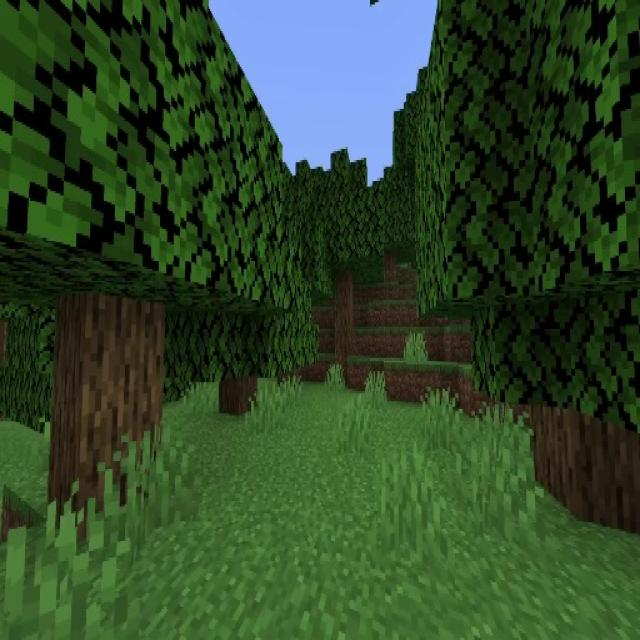oak: (2, 0, 276, 506), (421, 15, 640, 539), (172, 213, 310, 420), (306, 149, 382, 379)
oak_log: (56, 291, 161, 512), (536, 400, 640, 543), (332, 279, 352, 376), (219, 378, 256, 417)
